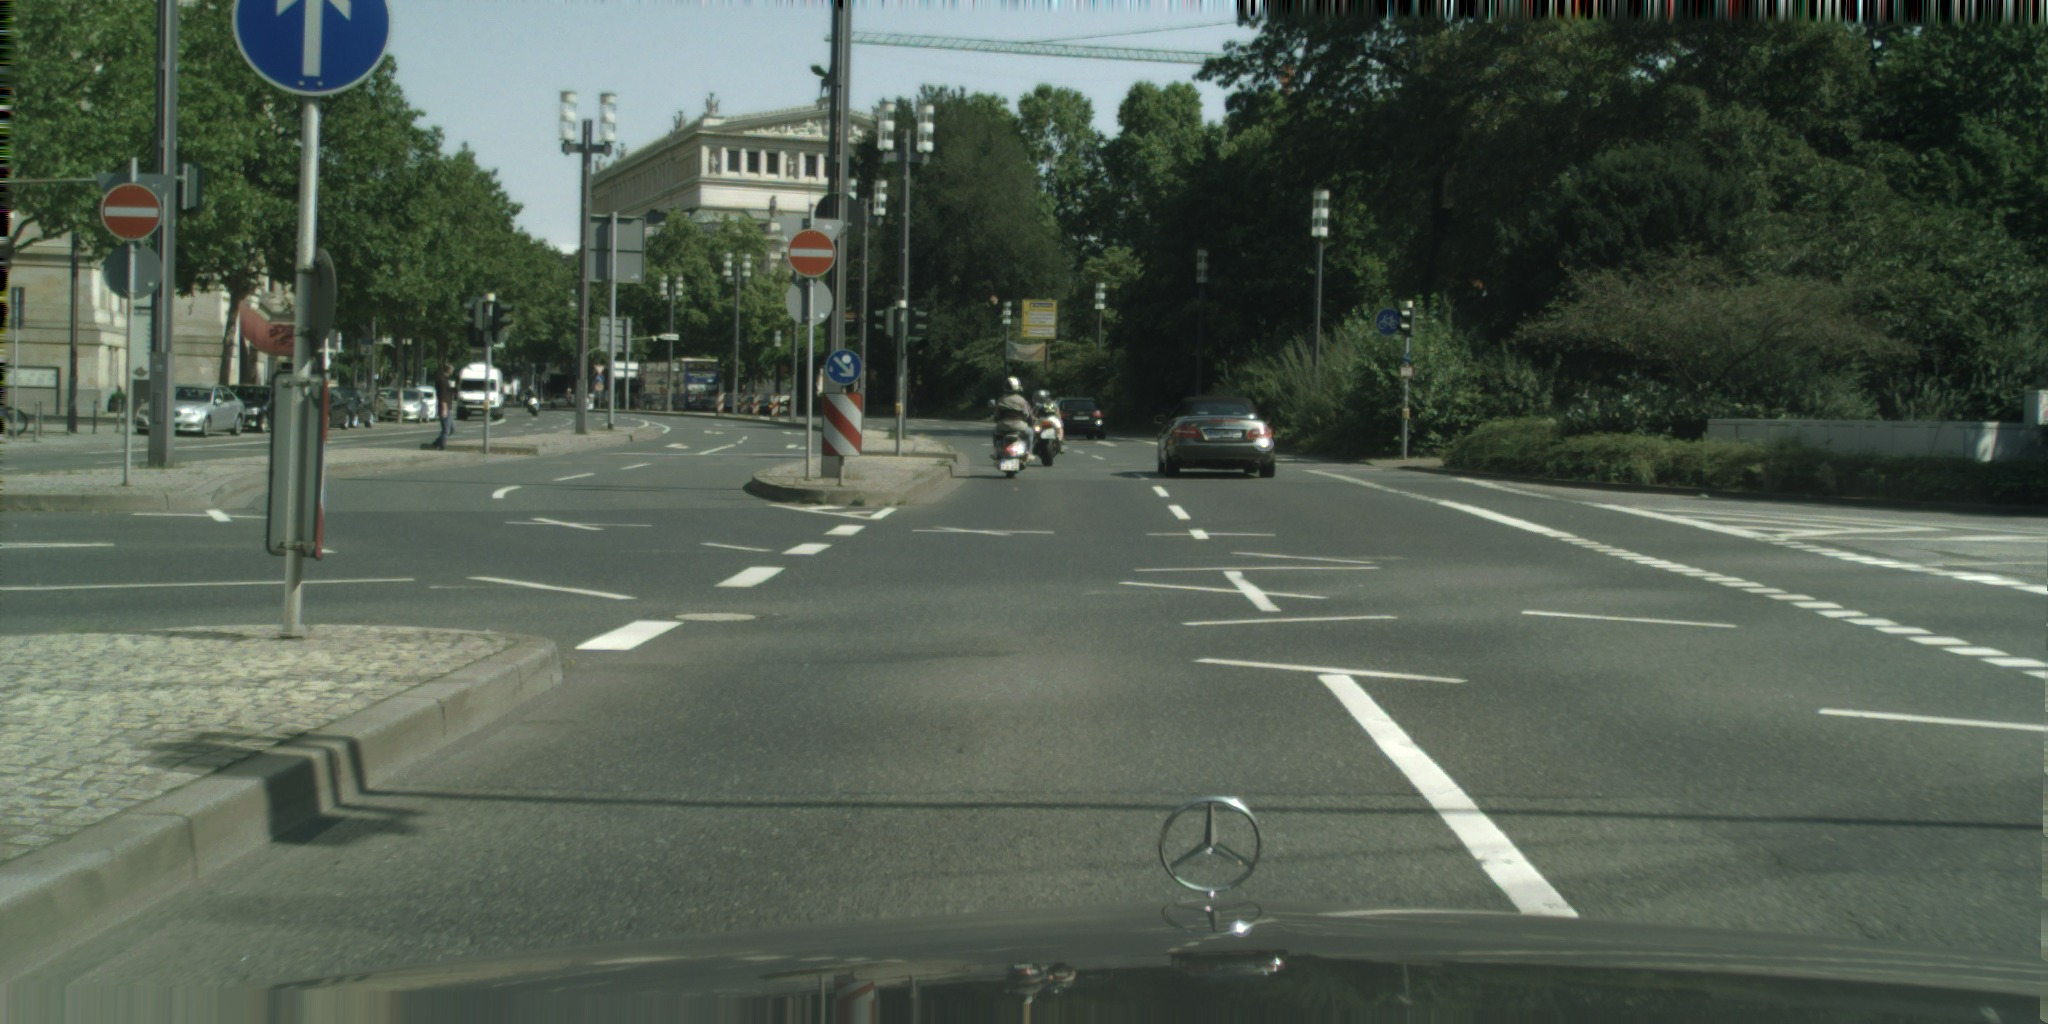bicycle: (0, 403, 28, 438)
car: (1152, 395, 1276, 478), (135, 382, 246, 436), (451, 362, 505, 423), (228, 383, 281, 432), (1052, 397, 1106, 440), (376, 388, 429, 424), (414, 384, 439, 421), (549, 394, 593, 410)
motorcycle: (988, 398, 1041, 478), (1031, 416, 1065, 466), (525, 386, 539, 418)
person: (429, 364, 455, 452), (566, 388, 571, 409)
rider: (987, 376, 1036, 462), (1031, 388, 1064, 454)
